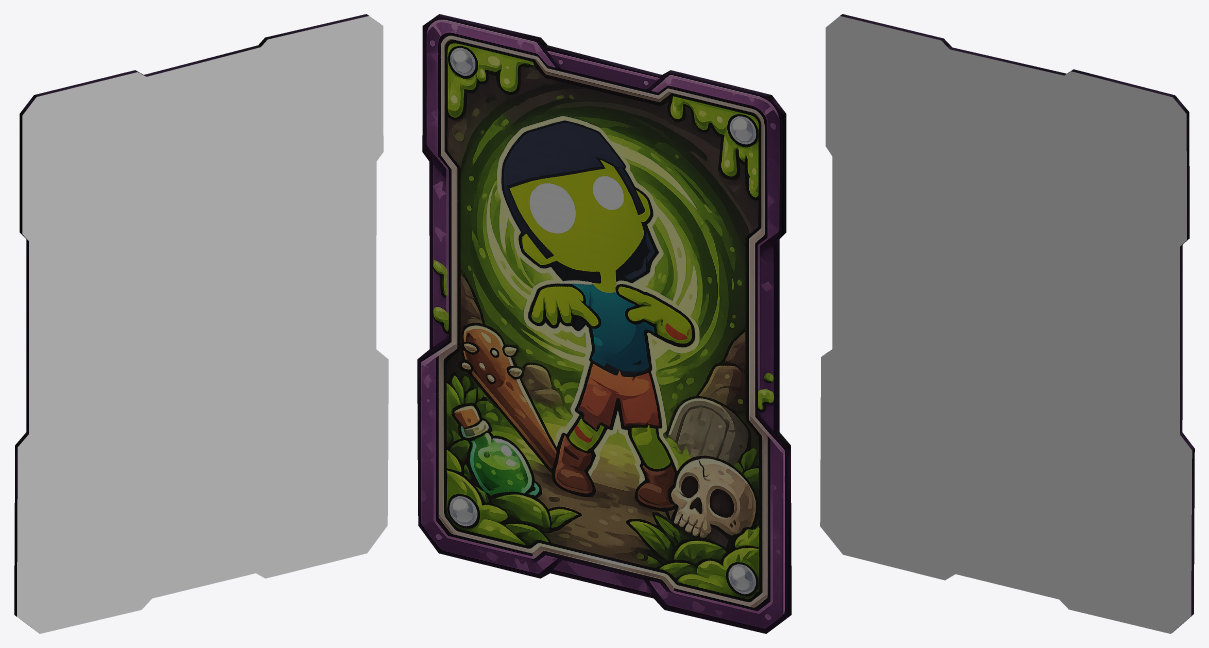
The model's file is Carta.fbx.
The picture shows the model from 3 angles, left to right: view 1: azimuth 30°, elevation 25°; view 2: azimuth 150°, elevation 25°; view 3: azimuth 330°, elevation 25°; orthographic projection.
Visible parts, largest first — view 1: Plane; view 2: Plane; view 3: Plane.
Part boxes in pixels (x1,y1,x2,y2): Plane: (14,14,388,633); Plane: (417,14,791,633); Plane: (820,14,1194,633).
Size of the model in its own units: 141 by 196 by 1.75.
